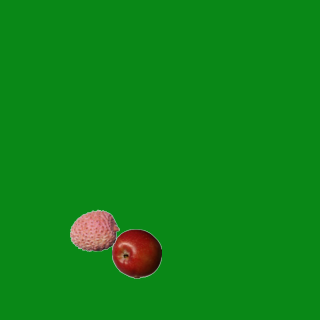Apple Braeburn: (111, 228, 161, 278)
Lychee: (69, 205, 119, 255)
